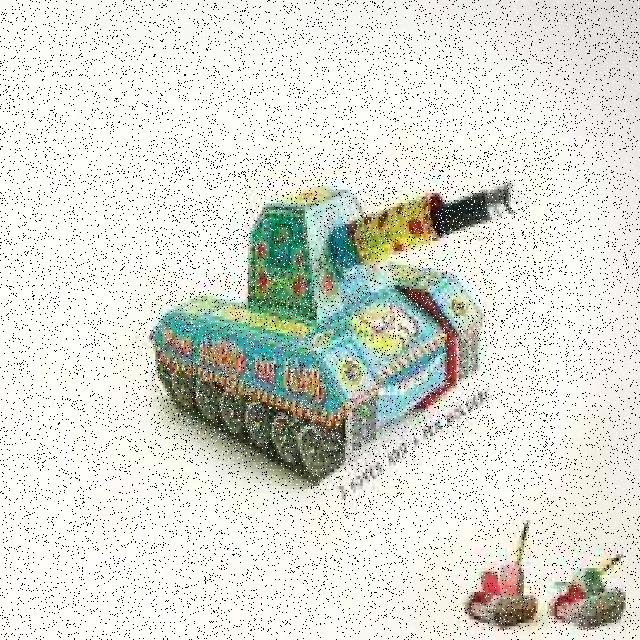MIL_MBT: (150, 154, 555, 457)
